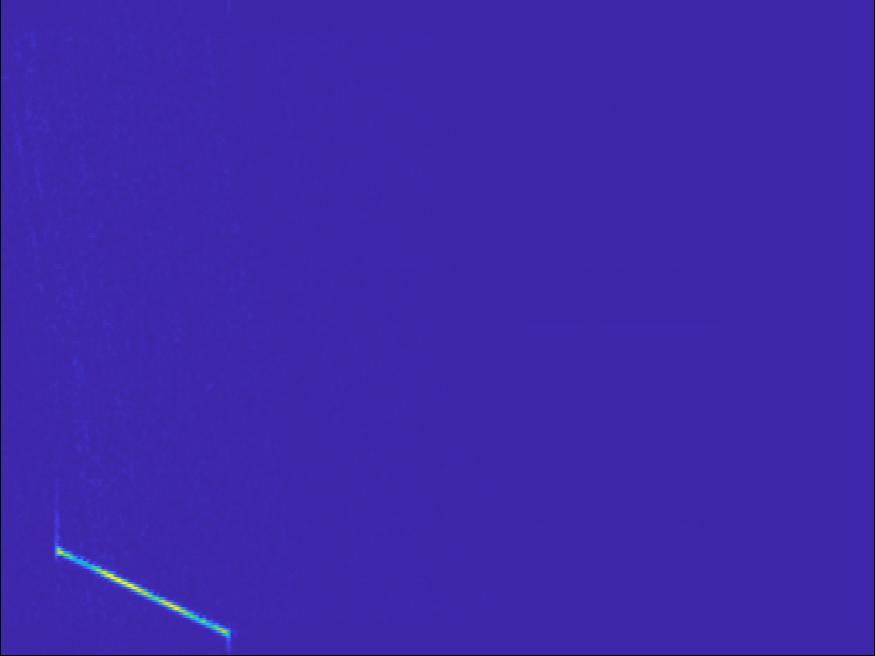Interference: (273, 128, 544, 336), (248, 310, 385, 359), (728, 473, 827, 518), (28, 301, 120, 347), (594, 1, 727, 29)
